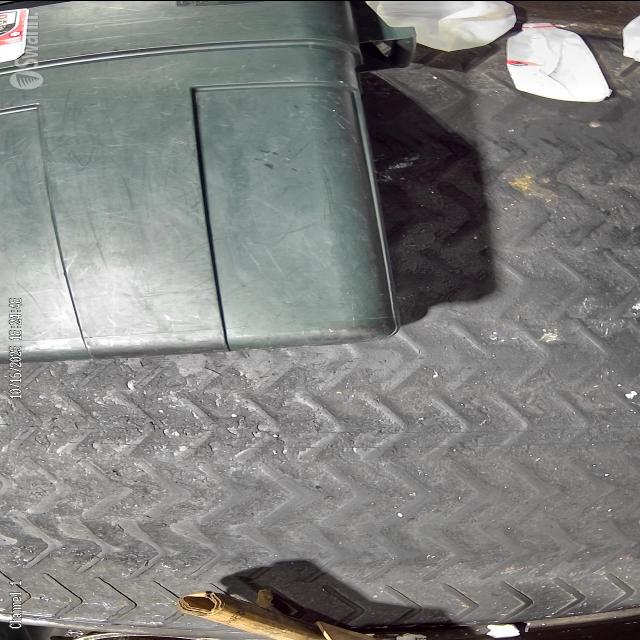milk_jug: (508, 21, 613, 102), (363, 0, 518, 51)
